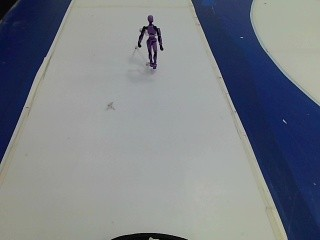pedestrian: (135, 13, 166, 75)
